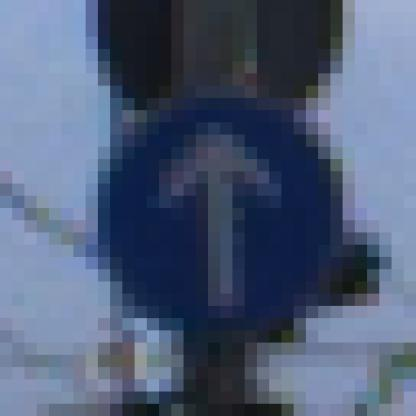AheadOnly: (74, 74, 356, 356)
